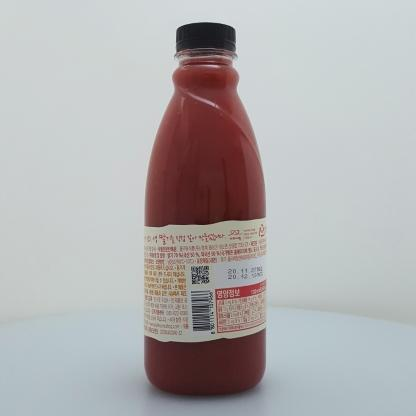--------------700ML: (144, 22, 267, 396)
